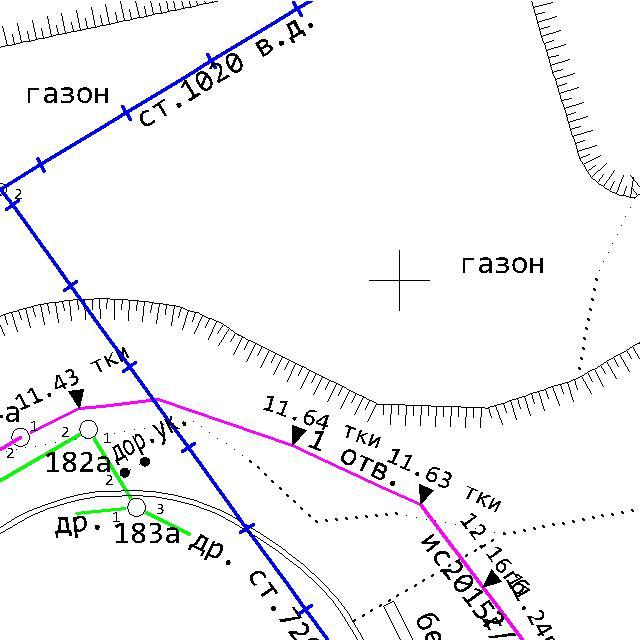mark: (481, 568, 504, 591), (65, 387, 86, 410), (289, 424, 309, 448), (418, 483, 436, 507)
well: (9, 426, 32, 450), (78, 418, 100, 441), (126, 496, 148, 518)
